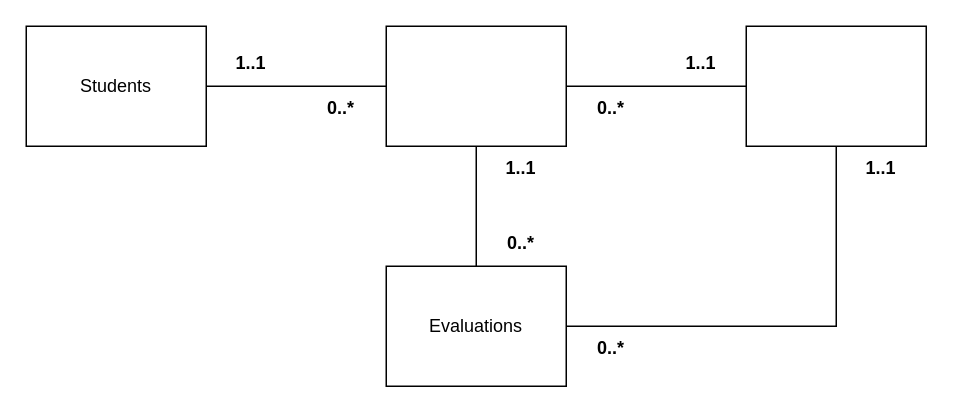
The diagram is 953 pixels wide and 413 high, and some of its shapes have lost their labels. The centre of each missing label's shape, as x and y in pixels:
Projects: the point at 475,85
Supervisors: the point at 835,85
